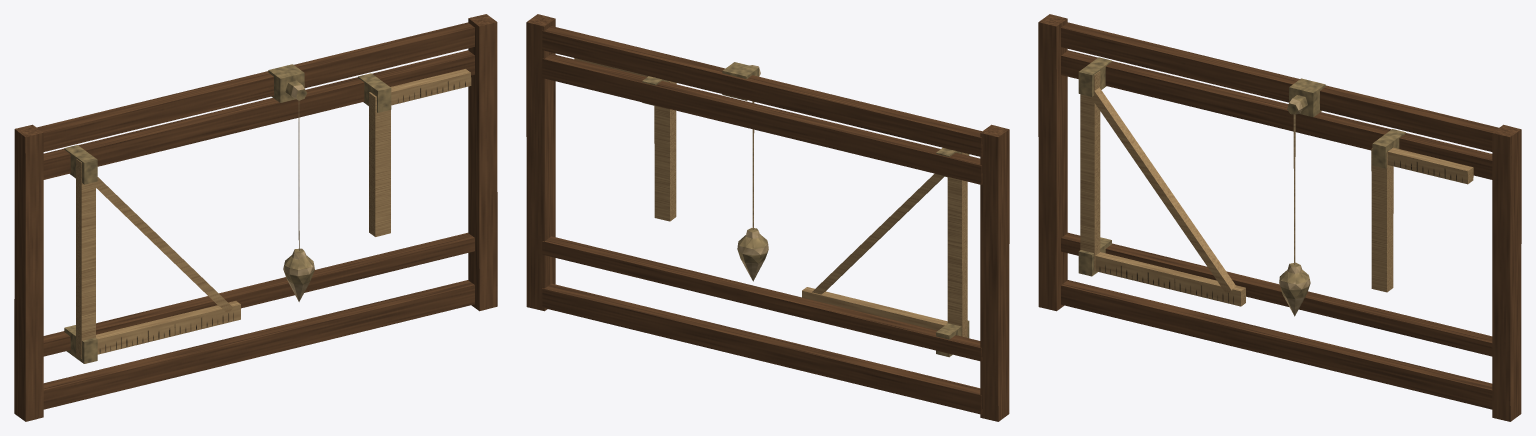
Rendered from PlumbSquareBoard_LOD2.fbx.
3 views of the same model, side by side, from view 1: azimuth 30°, elevation 25°; view 2: azimuth 150°, elevation 25°; view 3: azimuth 330°, elevation 25° (orthographic).
Visible parts, largest first — view 1: PlumbSquareBoard.001; view 2: PlumbSquareBoard.001; view 3: PlumbSquareBoard.001.
Boxes of the visible parts, x1,y1,x2,y2 form: PlumbSquareBoard.001: (14,14,497,421); PlumbSquareBoard.001: (526,14,1009,421); PlumbSquareBoard.001: (1038,14,1521,421).
Size of the model in its own units: 2.04 by 1.18 by 0.2106.
1 material, 1 textured.
